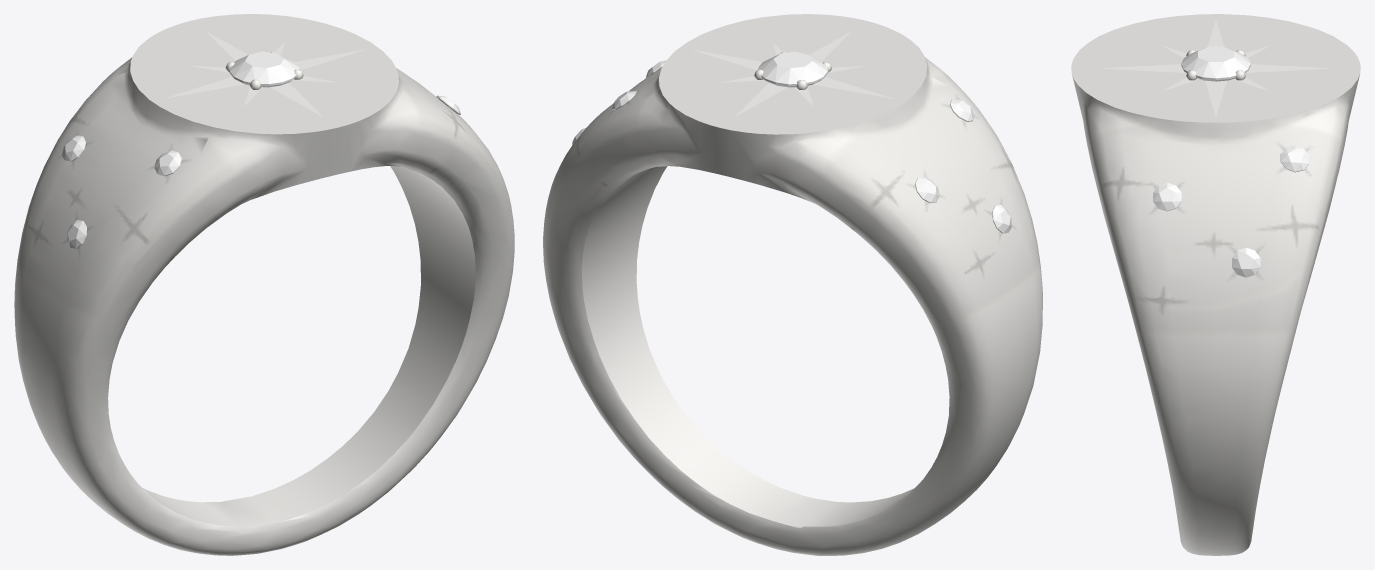
The model's file is Anillo_SelloEstrella.fbx.
3 renders of one model, left to right at view 1: azimuth 30°, elevation 25°; view 2: azimuth 150°, elevation 25°; view 3: azimuth 270°, elevation 25°, orthographic.
Visible parts, largest first — view 1: Anillo_SelloEstrella; view 2: Anillo_SelloEstrella; view 3: Anillo_SelloEstrella.
Boxes of the visible parts, bbox=[...] form: Anillo_SelloEstrella: bbox=[14, 14, 514, 555]; Anillo_SelloEstrella: bbox=[543, 14, 1042, 555]; Anillo_SelloEstrella: bbox=[1071, 14, 1360, 555].
Bounding box in the file's own units: 0.0225 × 0.0228 × 0.0125.
Materials: 3 (1 with a texture image).
